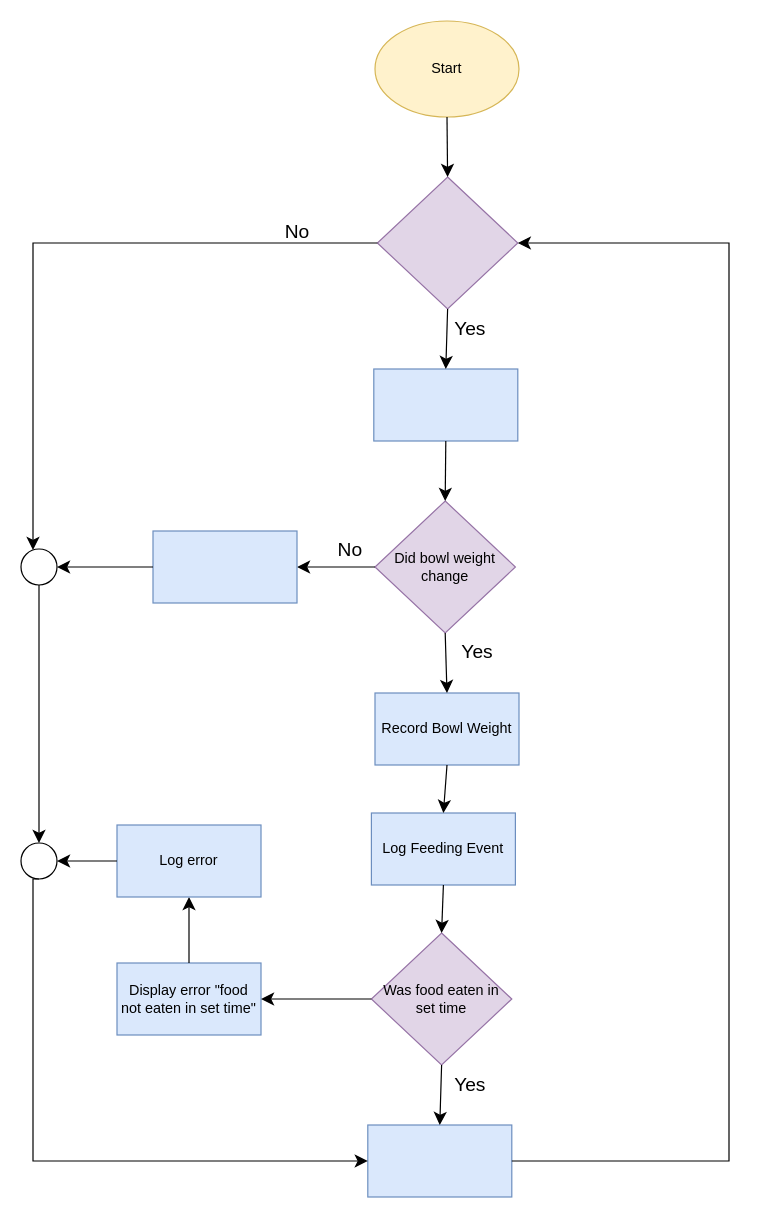
This 762x1218 diagram has some shape labels left out. Each missing label, with the centre of its shape:
Dispense Food: [445,404]
Display error "Food not dispensed": [224,566]
Idle: [439,1160]
Is it Feeding time: [447,242]
